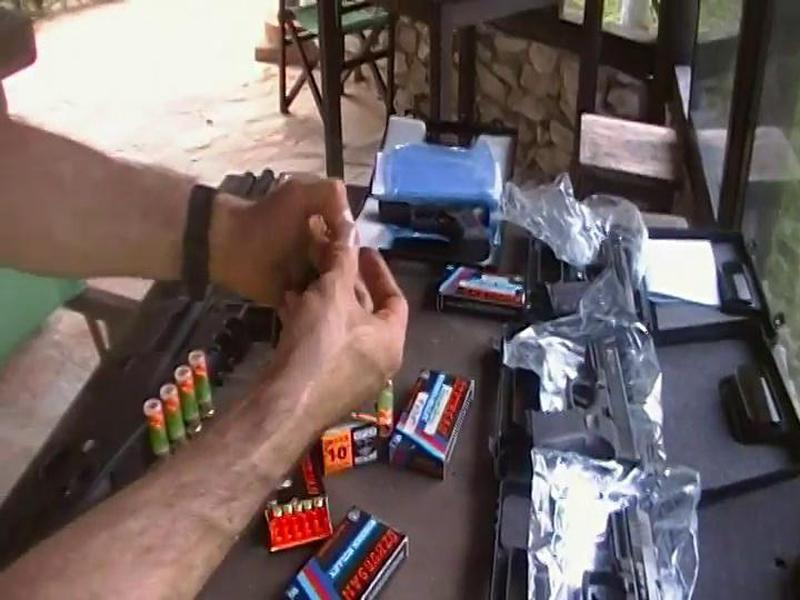Pistola: (496, 324, 655, 475)
